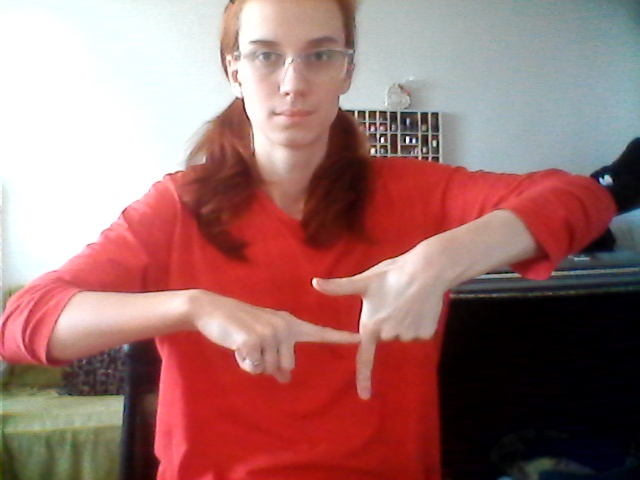f: (227, 267, 414, 413)
